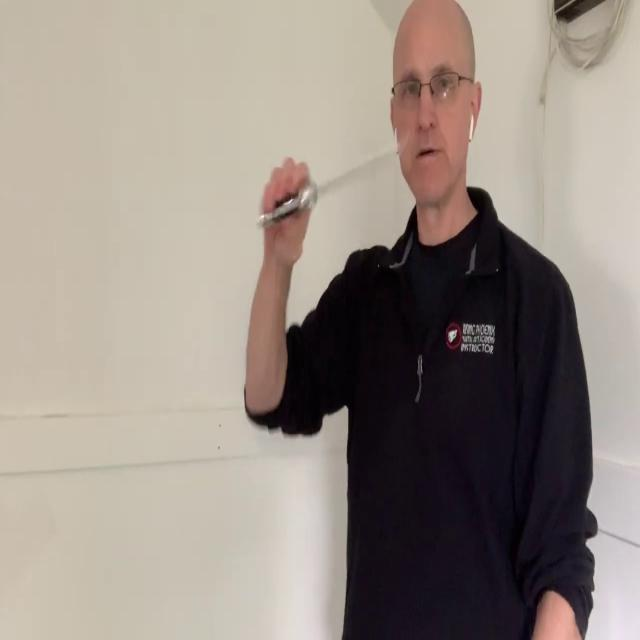Knife_Handle: (262, 136, 410, 263)
